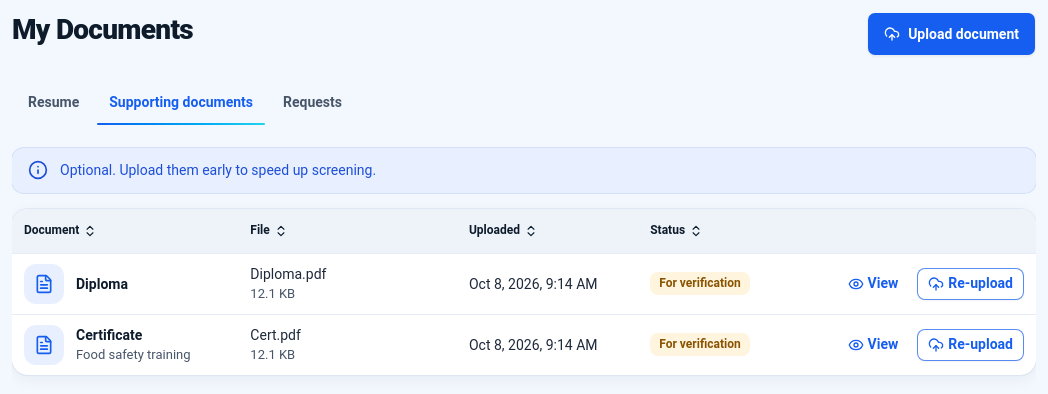
Test: My Documents › decision 40-1: the Resume tab has no 'One current resume' note; the Supporting note no longer mentions replacing
Expected: the text "Optional. Upload them early to speed up screening." is shown, x1=12 y1=148 x2=1036 y2=193
What coordinates should you click on to do the following:
click the tab "Resume"
I would click on:
 (54, 102)
Its box is x1=15 y1=84 x2=92 y2=120.
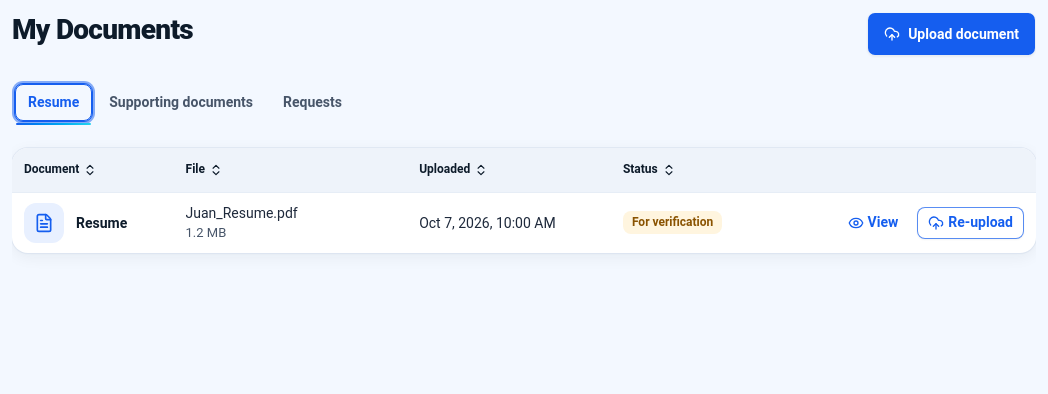
Expected: the text "Juan_Resume.pdf" is shown, x1=186 y1=205 x2=298 y2=221
